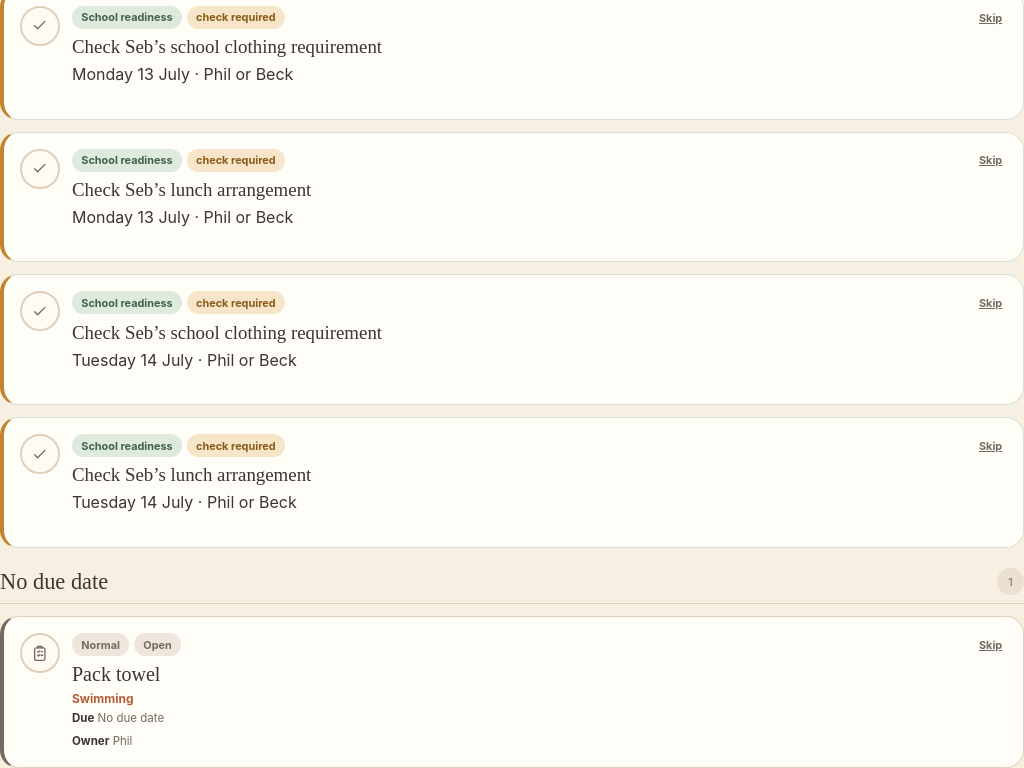
Prep view › ticks a task done from the Prep view
The image size is (1024, 768).
(page scrolled)
Click the button named "Mark Pack towel done": (40, 653) x1=20 y1=633 x2=60 y2=673
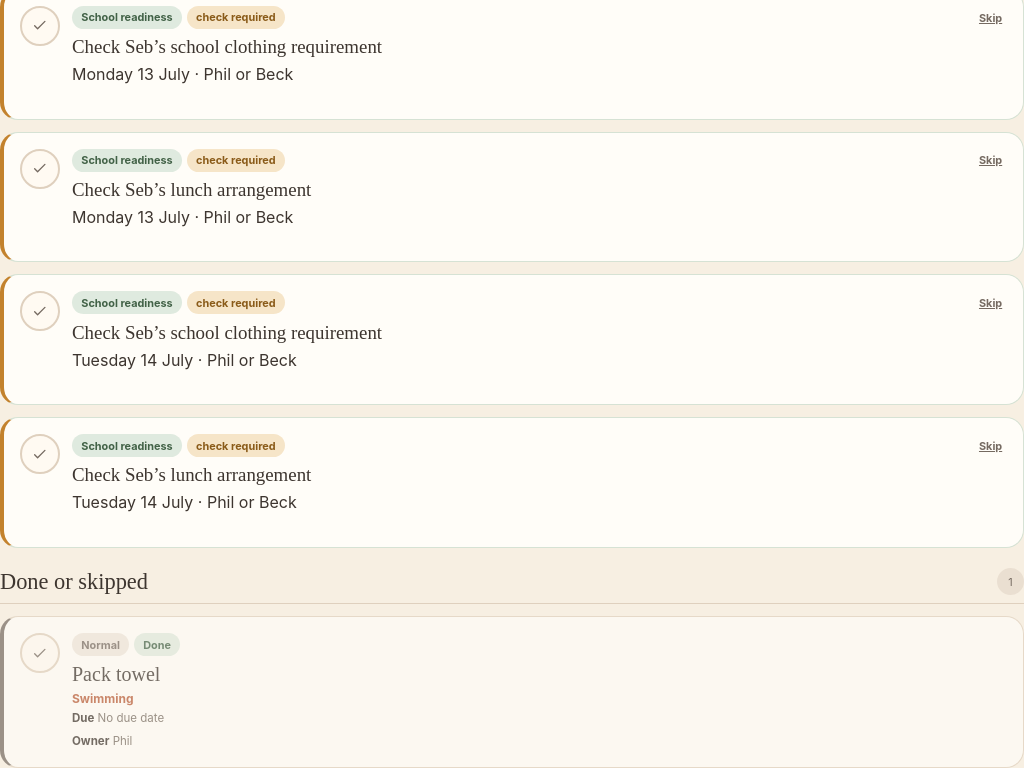
Expected: the heading "Done or skipped" is shown, x1=0 y1=569 x2=148 y2=594
